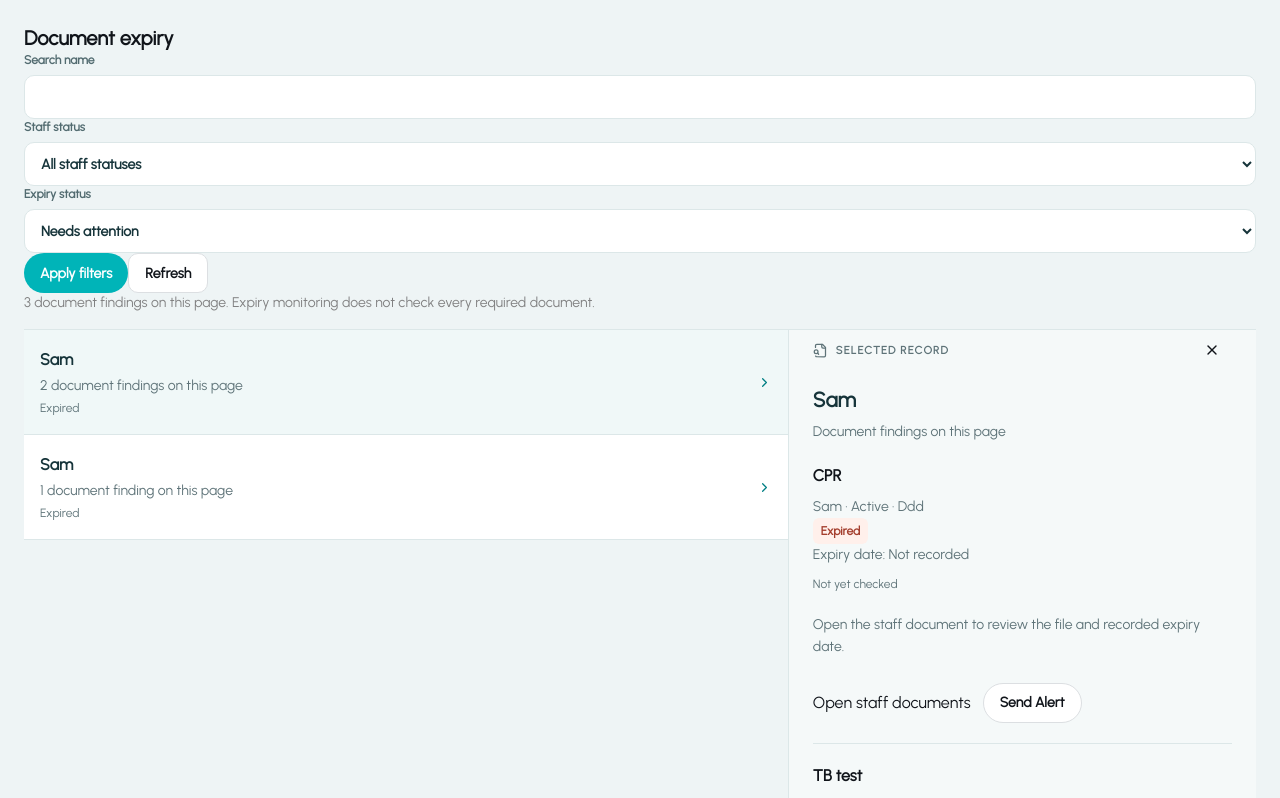
Test case: groups findings by staff identity and keeps each document action
Check: the text "2 document findings on this page" is shown, box top-left (40, 376), bottom-right (243, 396)
Click the button with aria-label "Review Sam" at (57, 465), box top-left (24, 435), bottom-right (788, 540)
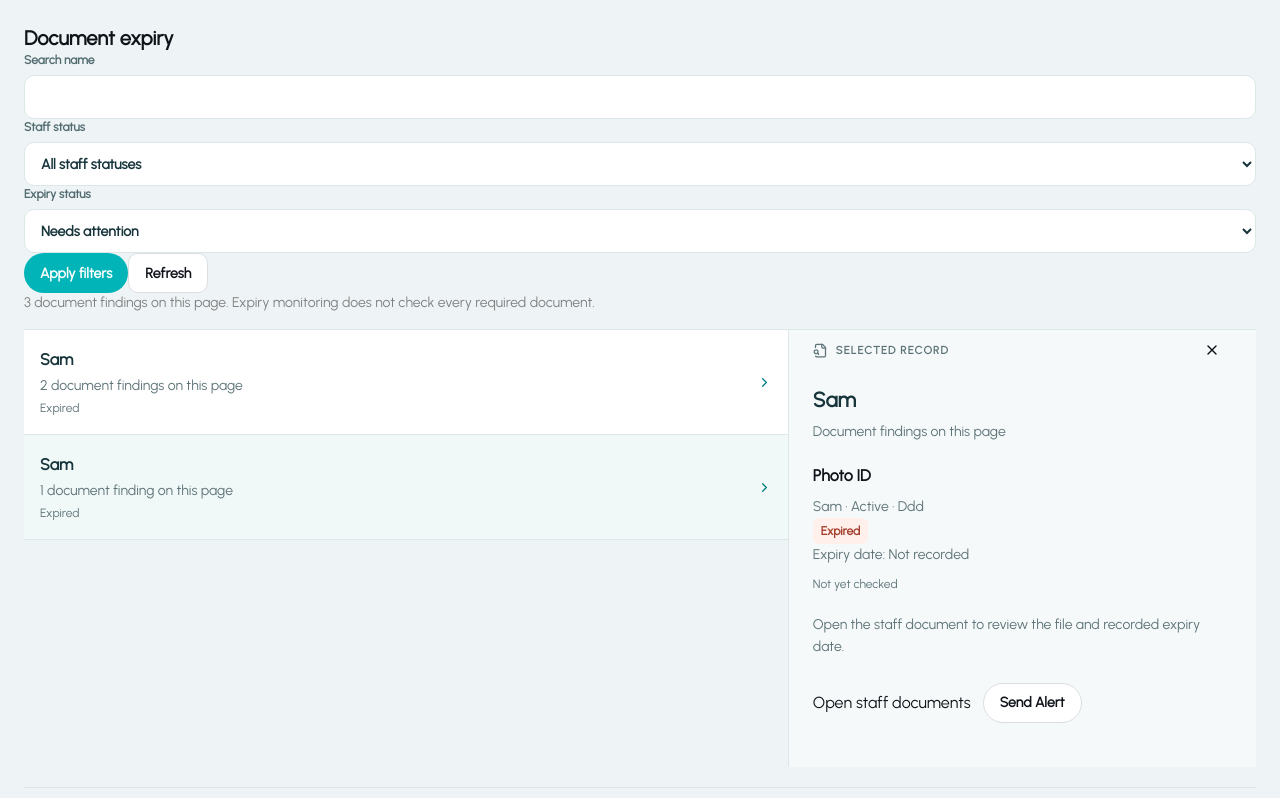
Check: the heading "Photo ID" is shown, box top-left (813, 466), bottom-right (871, 485)
Check: the heading "TB test" is gone
